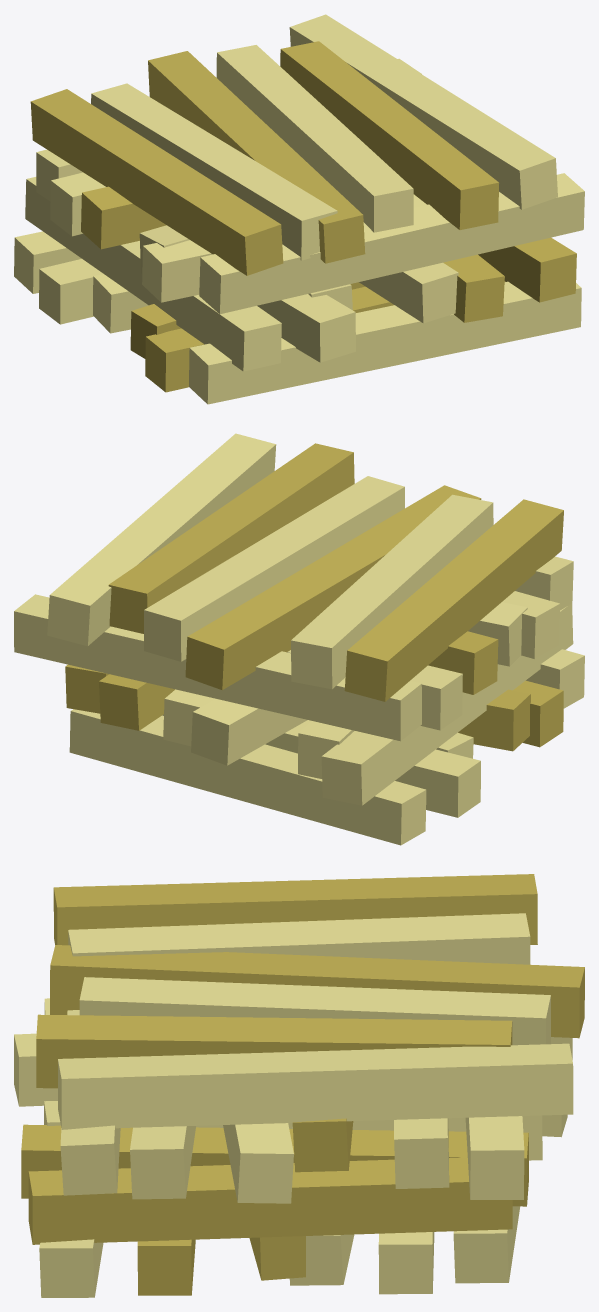
The model's file is fries_raw.glb.
3 views of the same model, one above another, from view 1: azimuth 30°, elevation 25°; view 2: azimuth 150°, elevation 25°; view 3: azimuth 270°, elevation 25° (orthographic). The views are drawn at different scales.
Visible parts, largest first — view 1: FriesRaw; view 2: FriesRaw; view 3: FriesRaw.
Boxes of the visible parts, box(x1,y1,x2,y2) form: FriesRaw: box(14, 14, 584, 404); FriesRaw: box(14, 433, 584, 845); FriesRaw: box(14, 874, 584, 1297).
Bounding box in the file's own units: 2.8 × 1.2 × 2.8.
